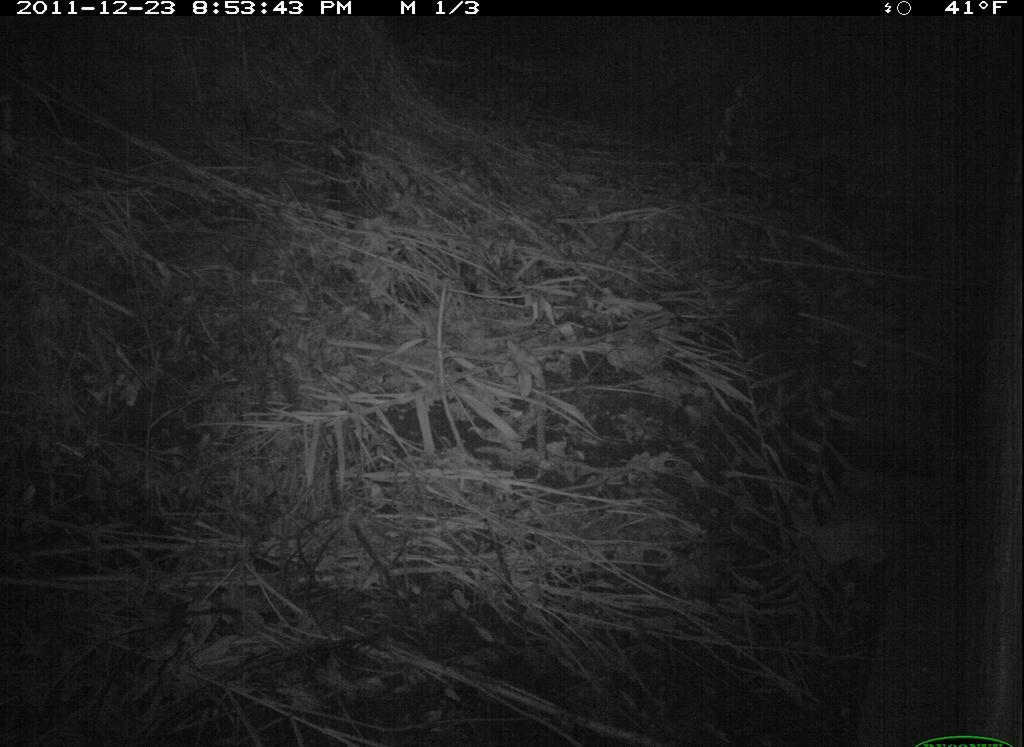opossum: (733, 281, 804, 349)
